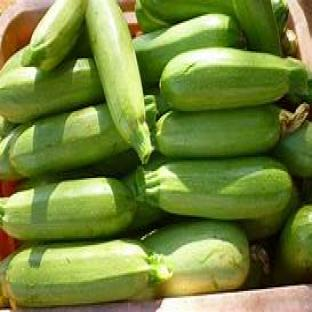Zucchini: (0, 240, 170, 306), (134, 157, 292, 220), (160, 48, 307, 111), (11, 104, 130, 176), (0, 179, 135, 241), (143, 221, 249, 296), (133, 15, 242, 84), (152, 106, 281, 158), (0, 59, 103, 123), (19, 150, 139, 190), (242, 186, 300, 241), (275, 205, 311, 282), (275, 122, 311, 178), (0, 126, 25, 179), (127, 201, 169, 232), (0, 48, 25, 77), (282, 29, 298, 58), (0, 115, 17, 137)
